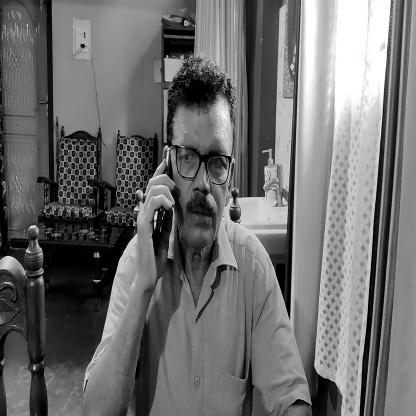Normal: (162, 54, 238, 259)
